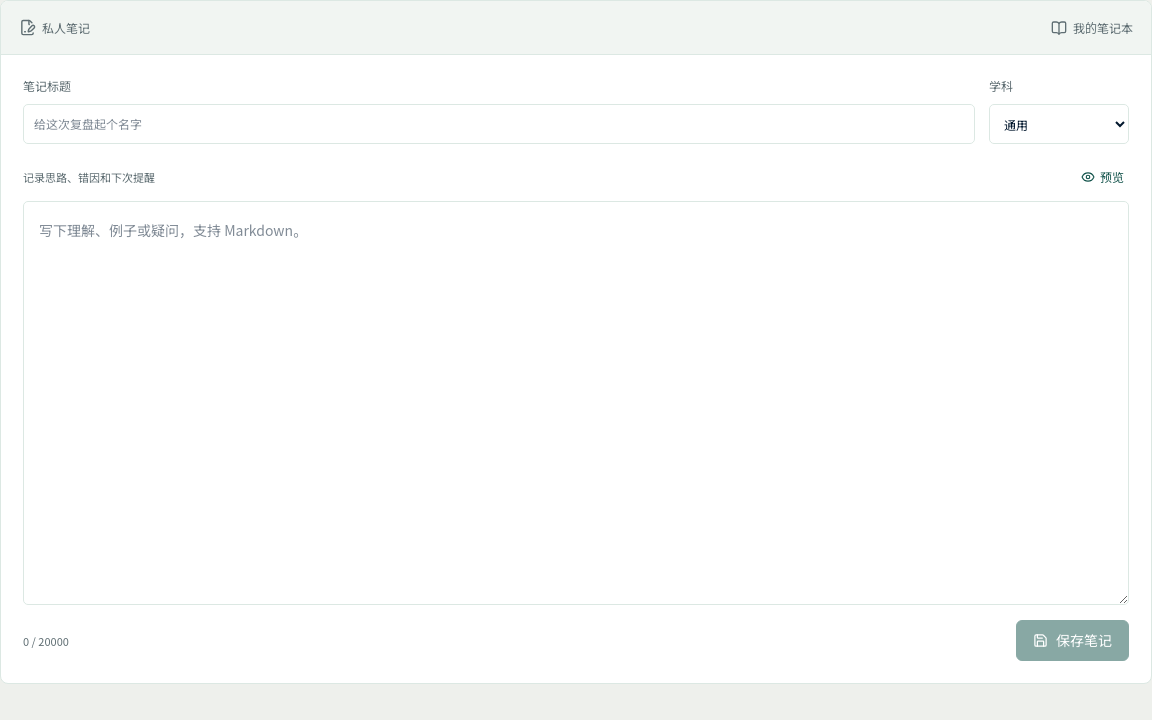
Scenario: private notebook editing › saves to the server and only then reports the record as saved
Type "Cache地址分解" into the field labelled "笔记标题" at {"x": 499, "y": 124}, box [23,104,975,144]
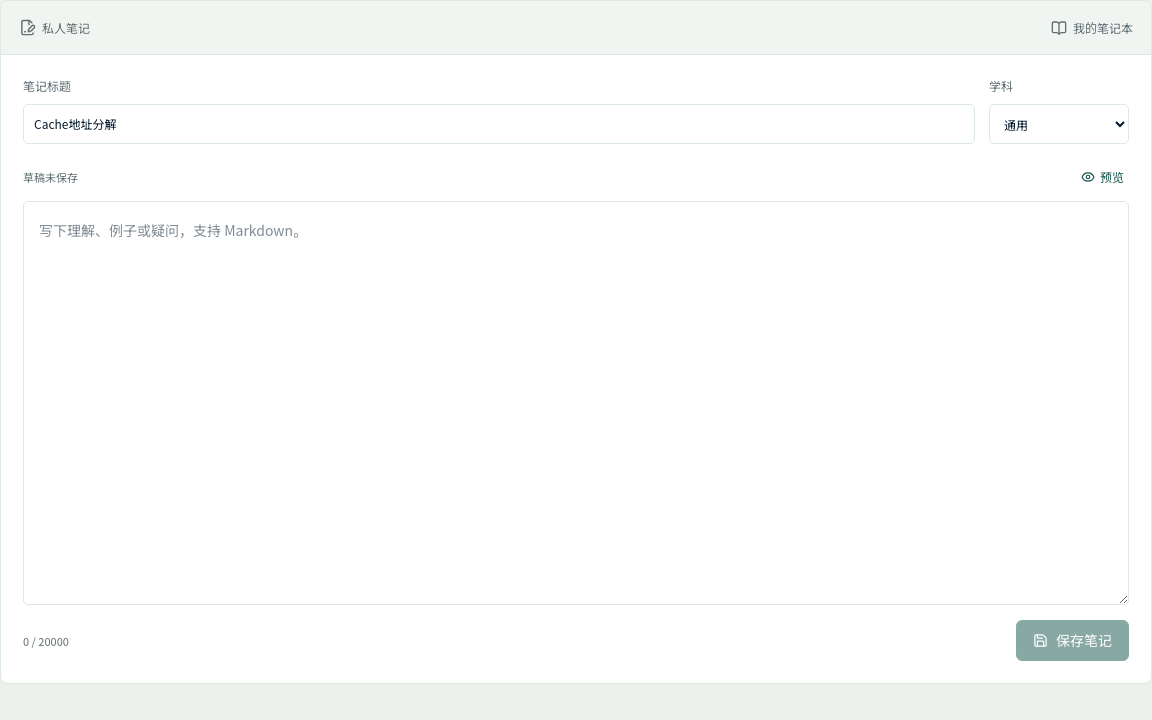
Select "组成原理" in the dropdown named "笔记学科" at {"x": 1059, "y": 124}, box [989,104,1129,144]
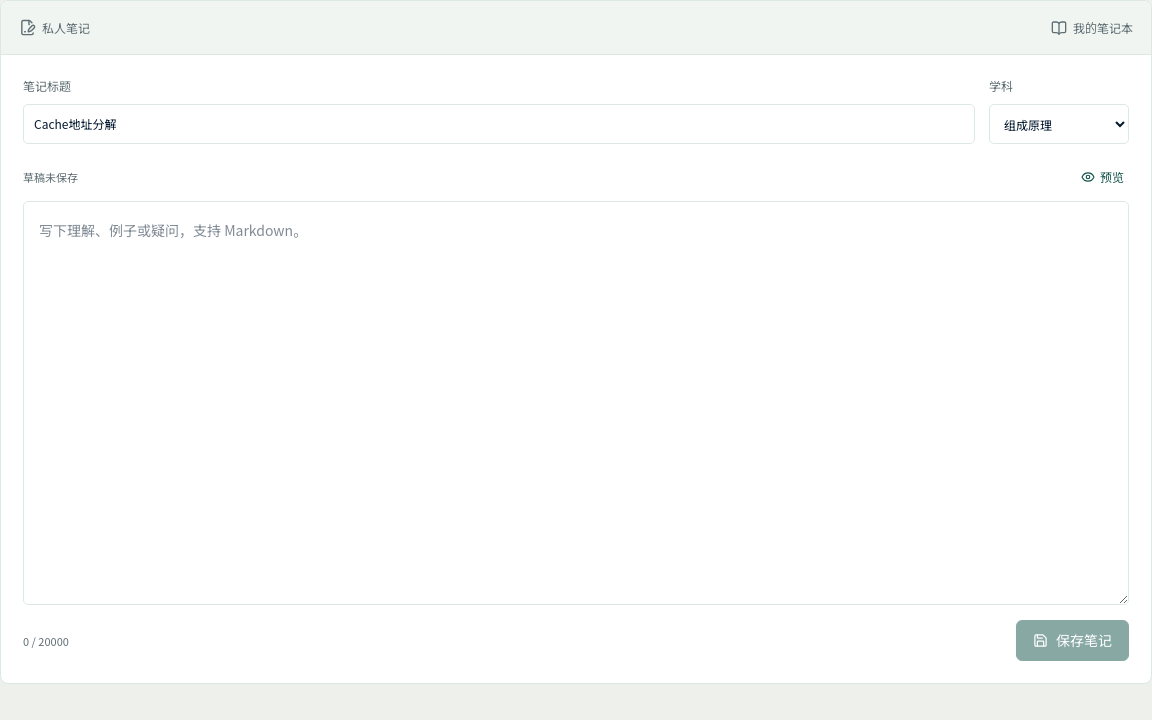
Type "先算块内偏移。" into the text box named "笔记正文" at {"x": 576, "y": 403}, box [23,201,1129,605]
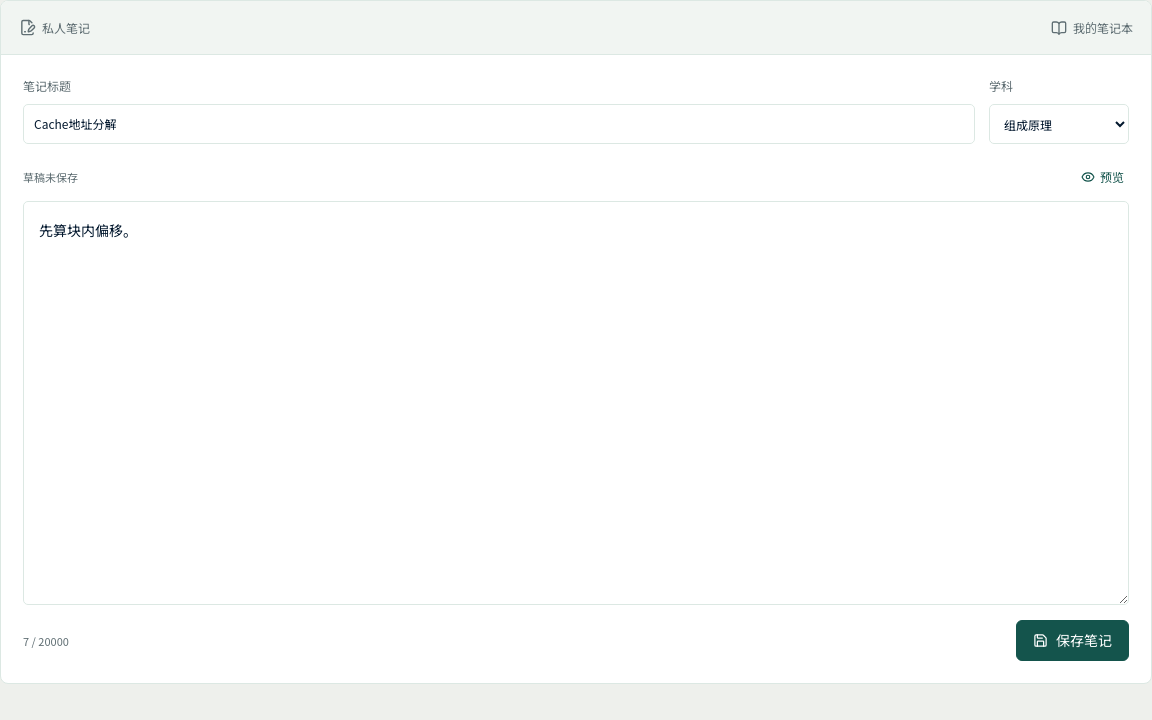
Click the button "保存笔记" at {"x": 1072, "y": 641}, box [1016,620,1129,661]
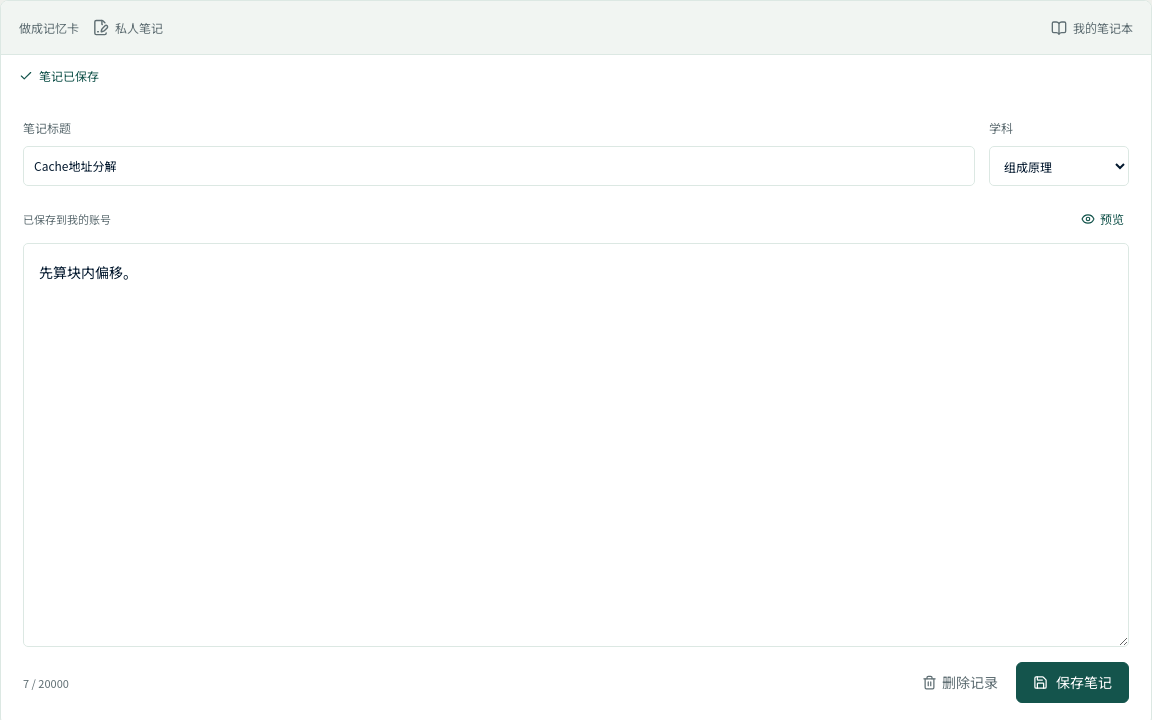
Now the text "笔记已保存" is shown, box [19,67,99,84]
